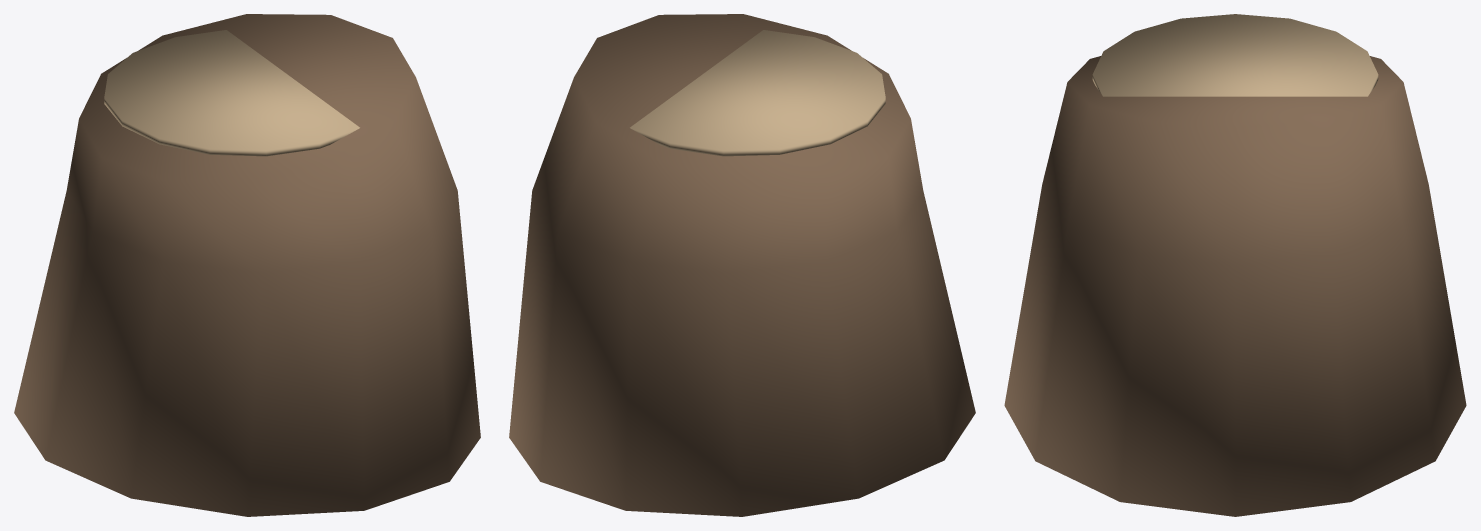
Rendered from SM_Stump.fbx.
The picture shows the model from 3 angles, left to right: view 1: azimuth 30°, elevation 25°; view 2: azimuth 150°, elevation 25°; view 3: azimuth 270°, elevation 25°; orthographic projection.
Parts seen in each view (by area): view 1: SM_Stump; view 2: SM_Stump; view 3: SM_Stump.
Boxes of the visible parts, box(x1,y1,x2,y2) form: SM_Stump: box(14, 14, 480, 516); SM_Stump: box(509, 14, 975, 516); SM_Stump: box(1004, 14, 1466, 516).
Size of the model in its own units: 110 by 110 by 94.98.
